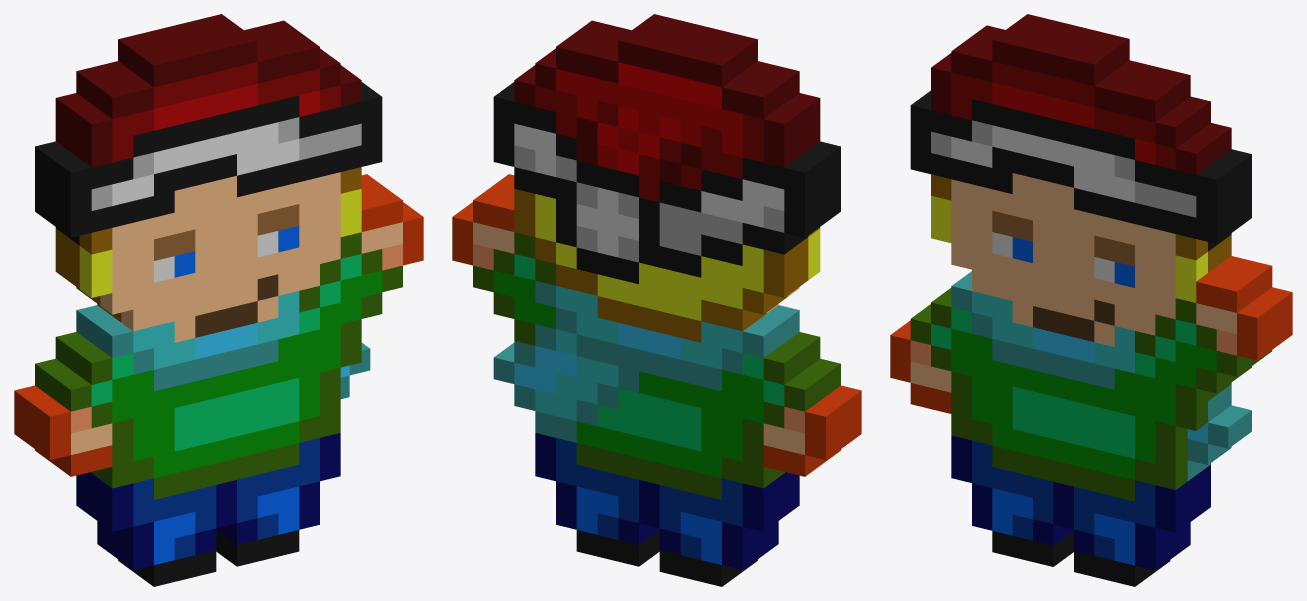
The model's file is win.obj.
3 views of the same model, side by side, from view 1: azimuth 30°, elevation 25°; view 2: azimuth 150°, elevation 25°; view 3: azimuth 330°, elevation 25° (orthographic).
Bounding box in the file's own units: 1.8 × 2.4 × 0.3.
1 material, 1 textured.
